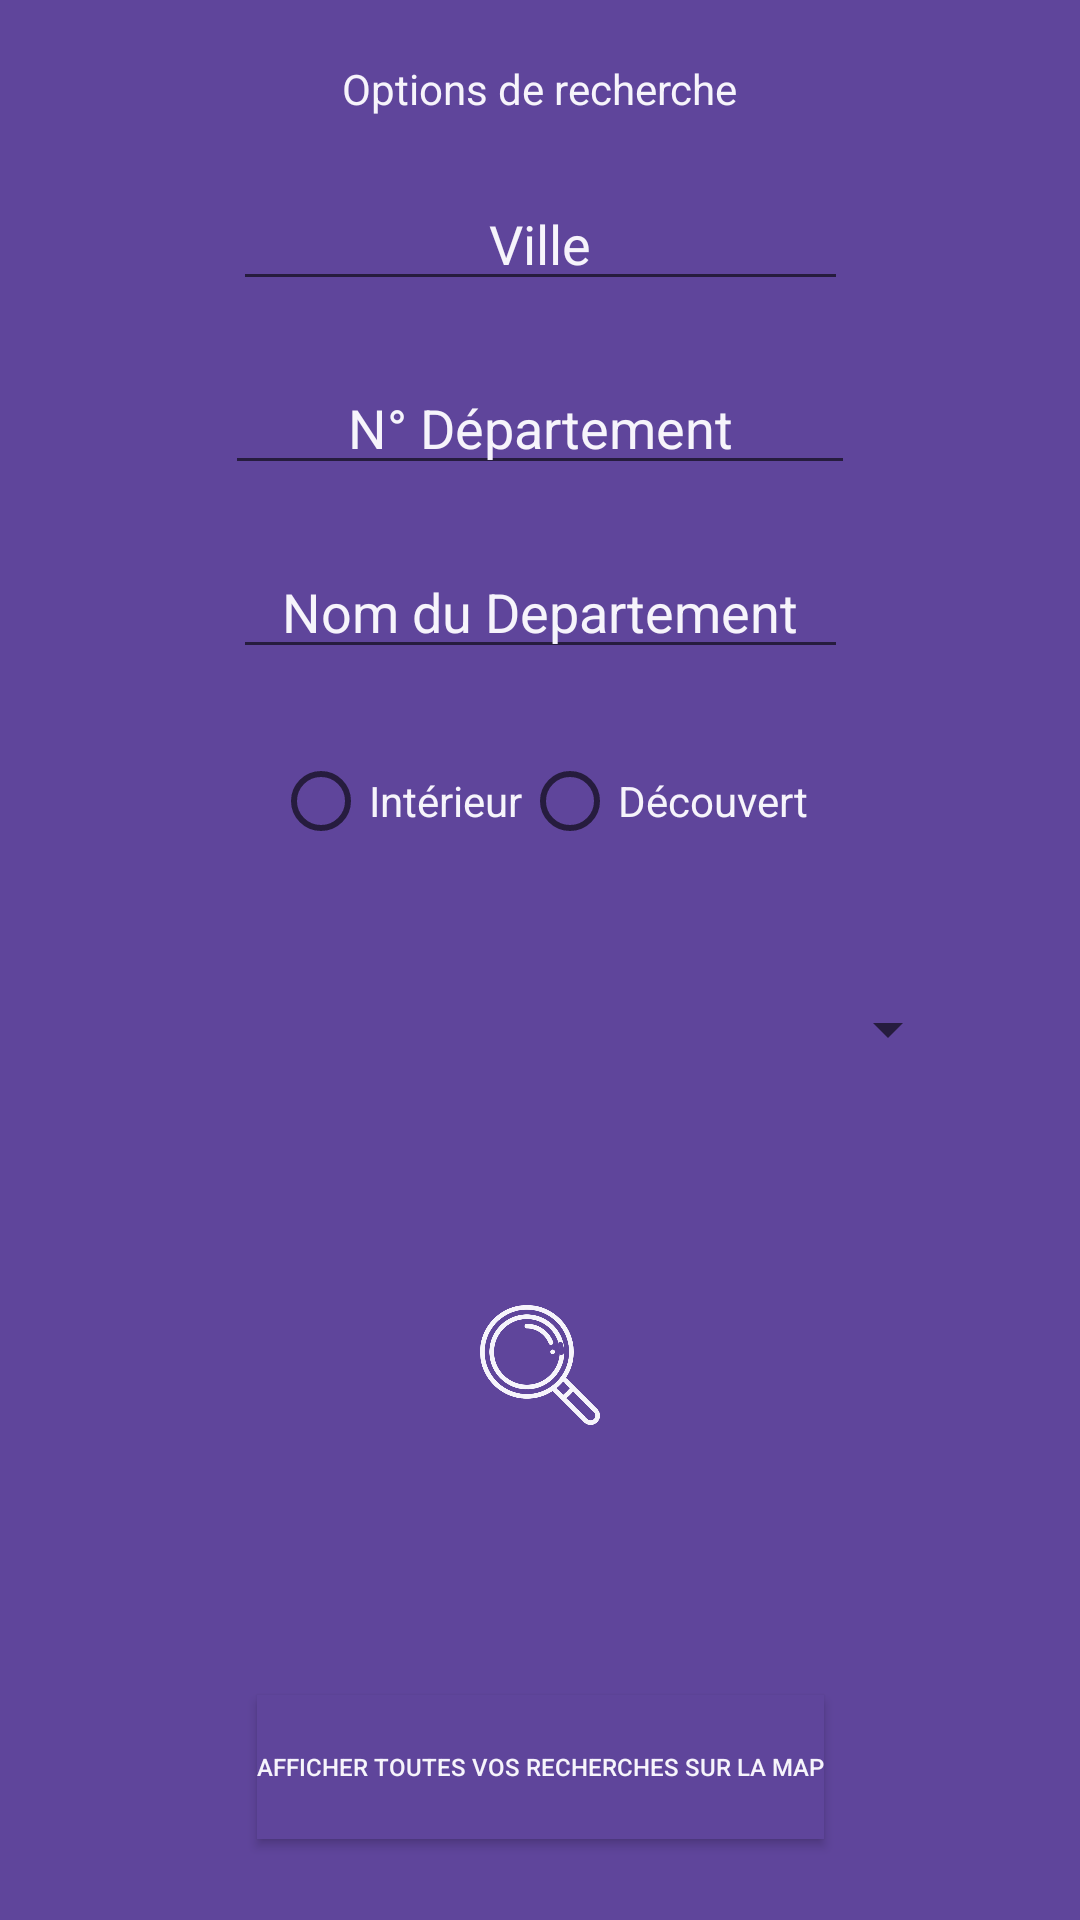

Screen size 1080*1920. Icon name, then its box in pixels as (x1, y1, x2, y2):
loupe: (480, 1305, 600, 1425)
